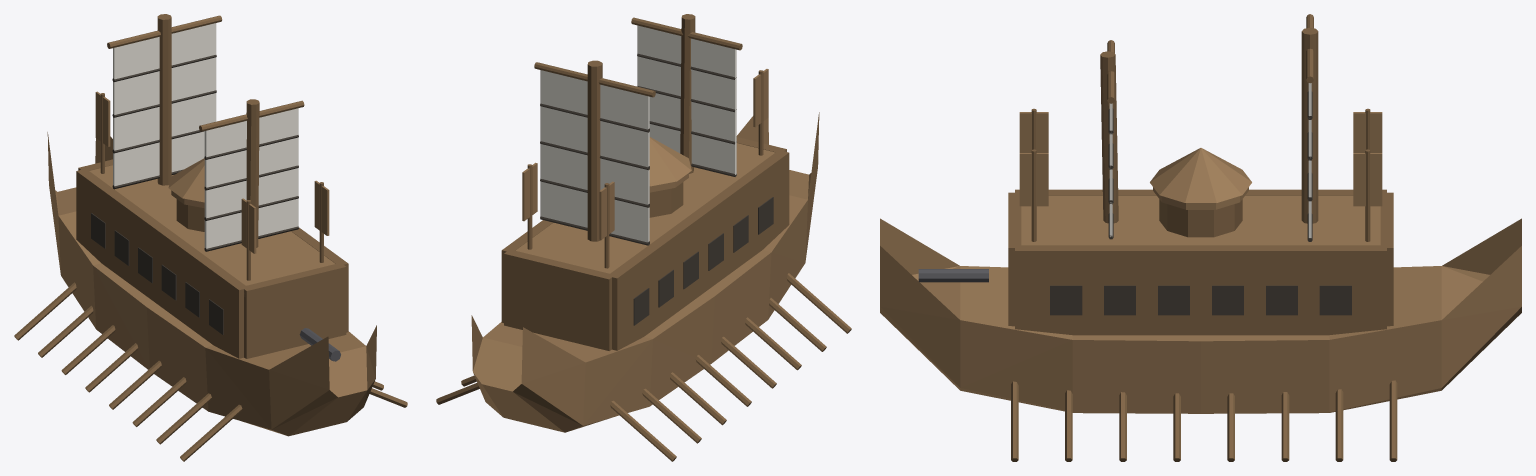
The model's file is Panokseon.fbx.
3 renders of one model, left to right at view 1: azimuth 30°, elevation 25°; view 2: azimuth 150°, elevation 25°; view 3: azimuth 270°, elevation 25°, orthographic. The views are drawn at different scales.
Parts seen in each view (by area): view 1: Panok_Body, Oar_L_7, Oar_L_0, Oar_L_6, Oar_L_1, Oar_L_2, Oar_L_5, Oar_L_3, Oar_L_4; view 2: Panok_Body, Oar_L_7, Oar_L_0, Oar_L_6, Oar_L_1, Oar_L_5, Oar_L_2, Oar_L_4, Oar_L_3; view 3: Panok_Body, Oar_R_7, Oar_R_6.
Part boxes in pixels (x1,y1,x2,y2): Panok_Body: (47, 14, 376, 436); Oar_L_7: (14, 282, 76, 340); Oar_L_0: (180, 404, 242, 461); Oar_L_6: (38, 305, 93, 357); Oar_L_1: (156, 393, 211, 444); Oar_L_2: (132, 377, 186, 426); Oar_L_5: (61, 325, 115, 374); Oar_L_3: (109, 360, 161, 409); Oar_L_4: (85, 343, 137, 392); Panok_Body: (471, 14, 819, 432); Oar_L_7: (610, 400, 676, 461); Oar_L_0: (786, 273, 851, 333); Oar_L_6: (642, 388, 701, 443); Oar_L_1: (769, 298, 826, 351); Oar_L_5: (670, 372, 726, 425); Oar_L_2: (745, 317, 801, 370); Oar_L_4: (695, 355, 751, 406); Oar_L_3: (721, 336, 776, 388); Panok_Body: (880, 14, 1521, 413); Oar_R_7: (1389, 380, 1397, 461); Oar_R_6: (1335, 389, 1343, 461).
Bounding box in the file's own units: 7.41 × 10.1 × 15.92.
